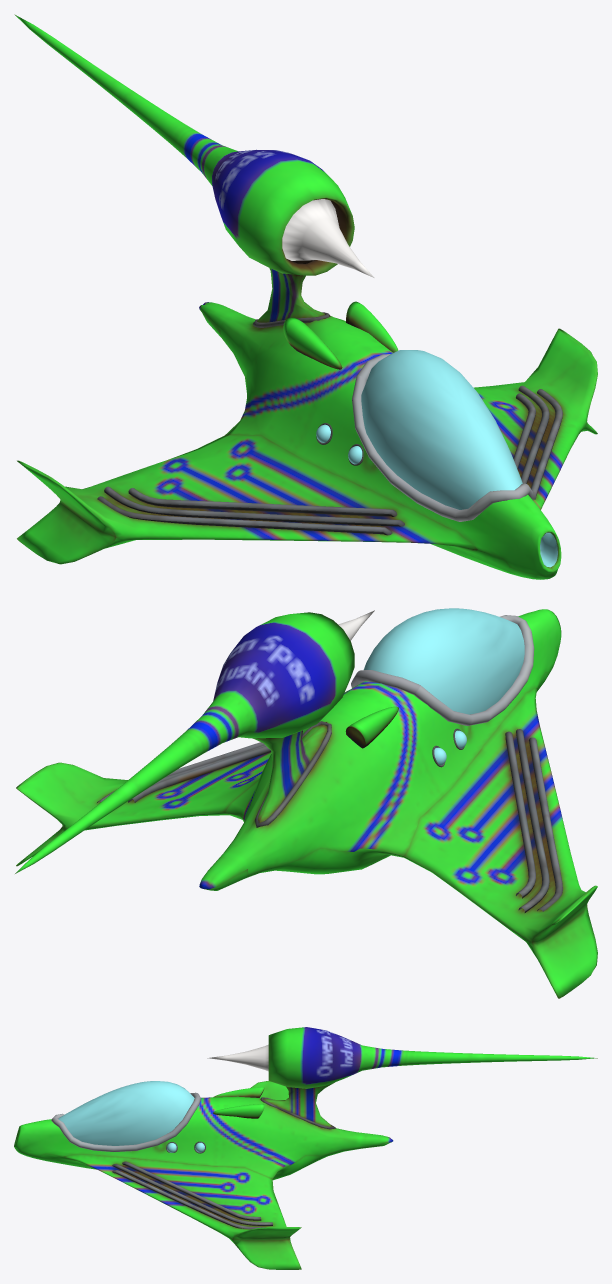
The model's file is Ship.fbx.
3 views of the same model, one above another, from view 1: azimuth 30°, elevation 25°; view 2: azimuth 150°, elevation 25°; view 3: azimuth 270°, elevation 25° (orthographic). The views are drawn at different scales.
Visible parts, largest first — view 1: p1_wedge_geo1; view 2: p1_wedge_geo1; view 3: p1_wedge_geo1.
Boxes of the visible parts, left/top/right/bottom form: p1_wedge_geo1: left=14, top=14, right=597, bottom=579; p1_wedge_geo1: left=15, top=608, right=597, bottom=998; p1_wedge_geo1: left=14, top=1027, right=597, bottom=1269.
Bounding box in the file's own units: 578 × 314 × 990.
3 materials, 1 textured.
